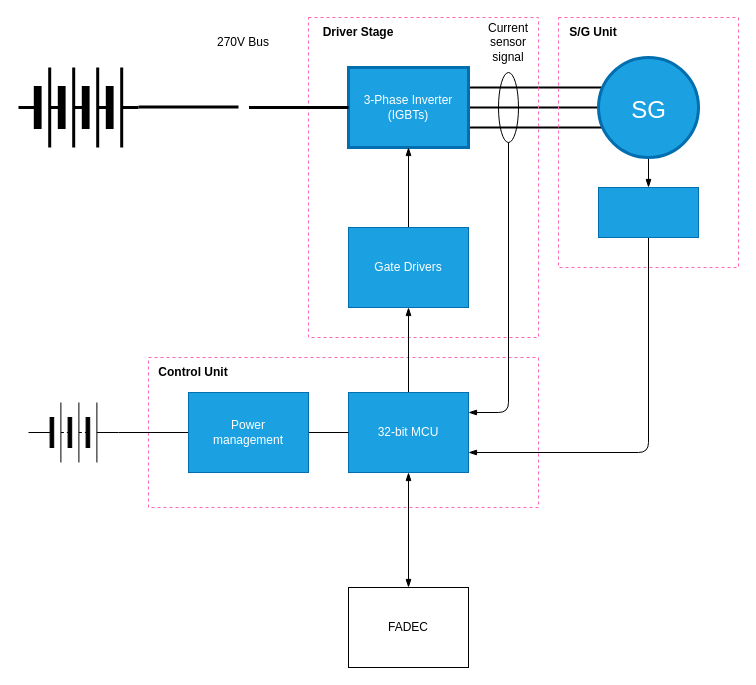
Some shapes in this 756 by 685 pixel diagram are drawn without their labels. Each missing label, with the box of its shape:
270V Battery: (16, 66, 140, 148)
28V Battery: (28, 402, 118, 462)
Encoder: (598, 186, 698, 238)
